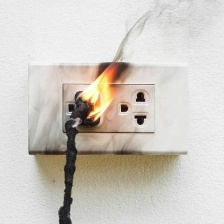three_eye_plug: (24, 59, 192, 158)
